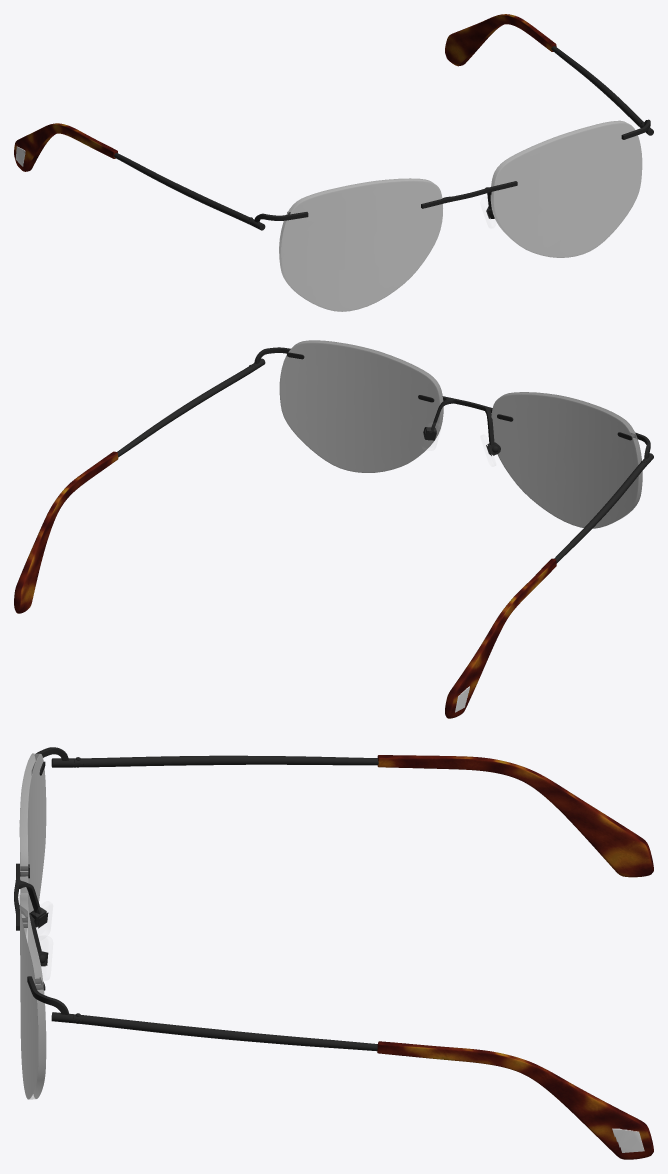
The picture shows the model from 3 angles, top to bottom: view 1: azimuth 30°, elevation 25°; view 2: azimuth 150°, elevation 25°; view 3: azimuth 270°, elevation 25°; orthographic projection. The views are drawn at different scales.
Parts seen in each view (by area): view 1: Vert.003, 平面, 円柱.002, Vert.001, 立方体_立方体.001; view 2: Vert.003, 平面, 円柱.002, Vert.001, 立方体_立方体.001; view 3: 平面, Vert.003, 円柱.002, 立方体_立方体.001, Vert.001, Vert.
Part boxes in pixels (x1,y1,x2,y2): Vert.003: [279, 120, 642, 311]; 平面: [14, 14, 556, 171]; 円柱.002: [114, 46, 644, 224]; Vert.001: [421, 181, 517, 208]; 立方体_立方体.001: [254, 119, 650, 222]; Vert.003: [279, 340, 642, 528]; 平面: [14, 451, 556, 718]; 円柱.002: [117, 364, 647, 563]; Vert.001: [431, 396, 494, 444]; 立方体_立方体.001: [254, 347, 650, 458]; 平面: [377, 755, 653, 1159]; Vert.003: [19, 753, 46, 1099]; 円柱.002: [73, 755, 378, 1051]; 立方体_立方体.001: [27, 747, 68, 1014]; Vert.001: [14, 863, 41, 951]; Vert: [612, 1128, 644, 1152].
Size of the model in its own units: 1.56 by 0.4076 by 1.43.
6 materials, 1 textured.
